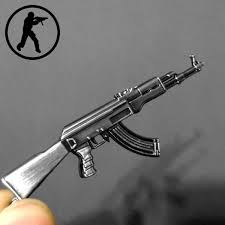gun: (2, 54, 206, 197)
